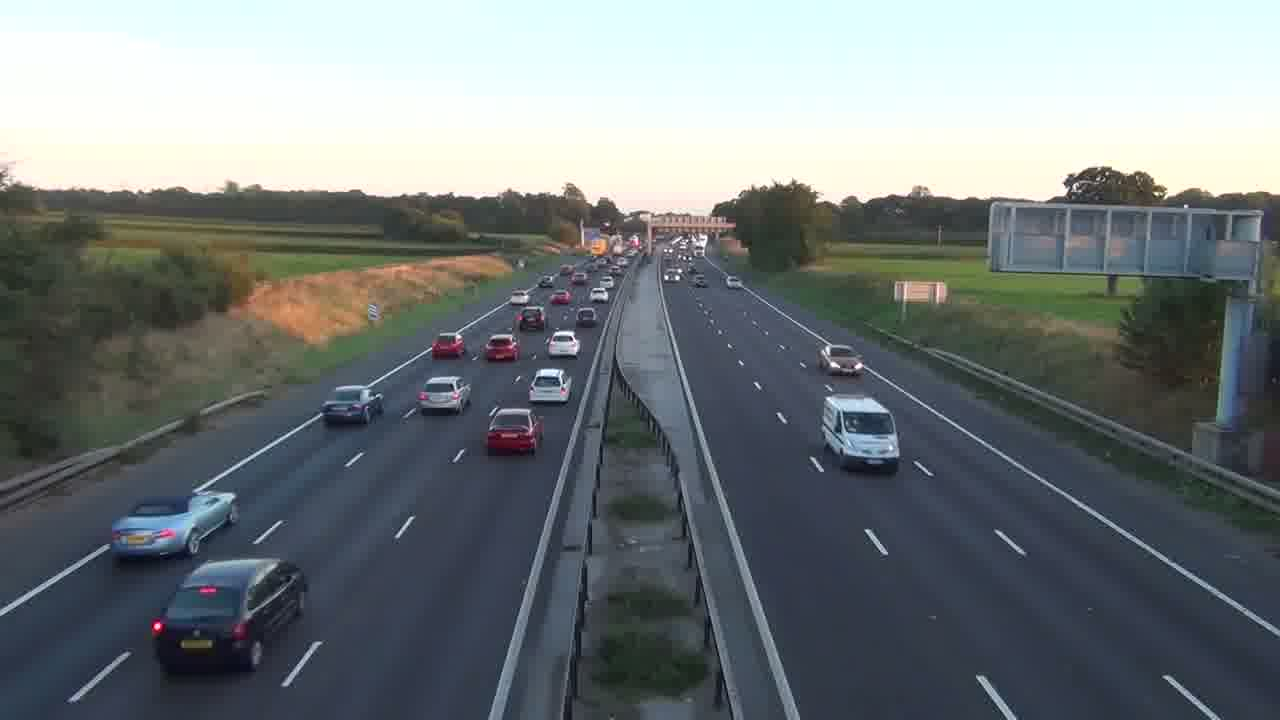car: (149, 557, 308, 673), (111, 491, 238, 561), (820, 393, 902, 472), (484, 407, 545, 454), (321, 383, 384, 425), (417, 374, 471, 415), (528, 367, 572, 404), (818, 342, 864, 376), (483, 332, 519, 362), (547, 329, 581, 357), (576, 306, 597, 328)
